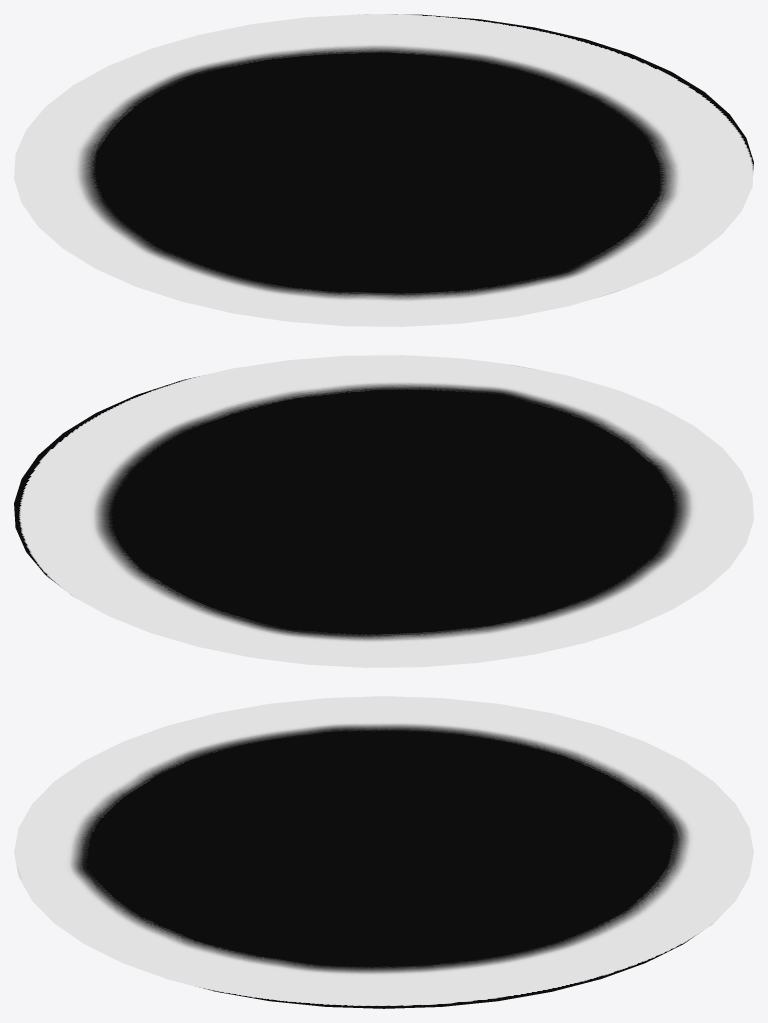
The model's file is punicon.fbx.
3 renders of one model, top to bottom at view 1: azimuth 30°, elevation 25°; view 2: azimuth 150°, elevation 25°; view 3: azimuth 270°, elevation 25°, orthographic.
Visible parts, largest first — view 1: pCylinder1; view 2: pCylinder1; view 3: pCylinder1.
Part boxes in pixels (x1,y1,x2,y2): pCylinder1: (14,14,753,326); pCylinder1: (14,355,753,667); pCylinder1: (14,696,753,1008).
Size of the model in its own units: 10 by 0 by 10.
1 material, 1 textured.
